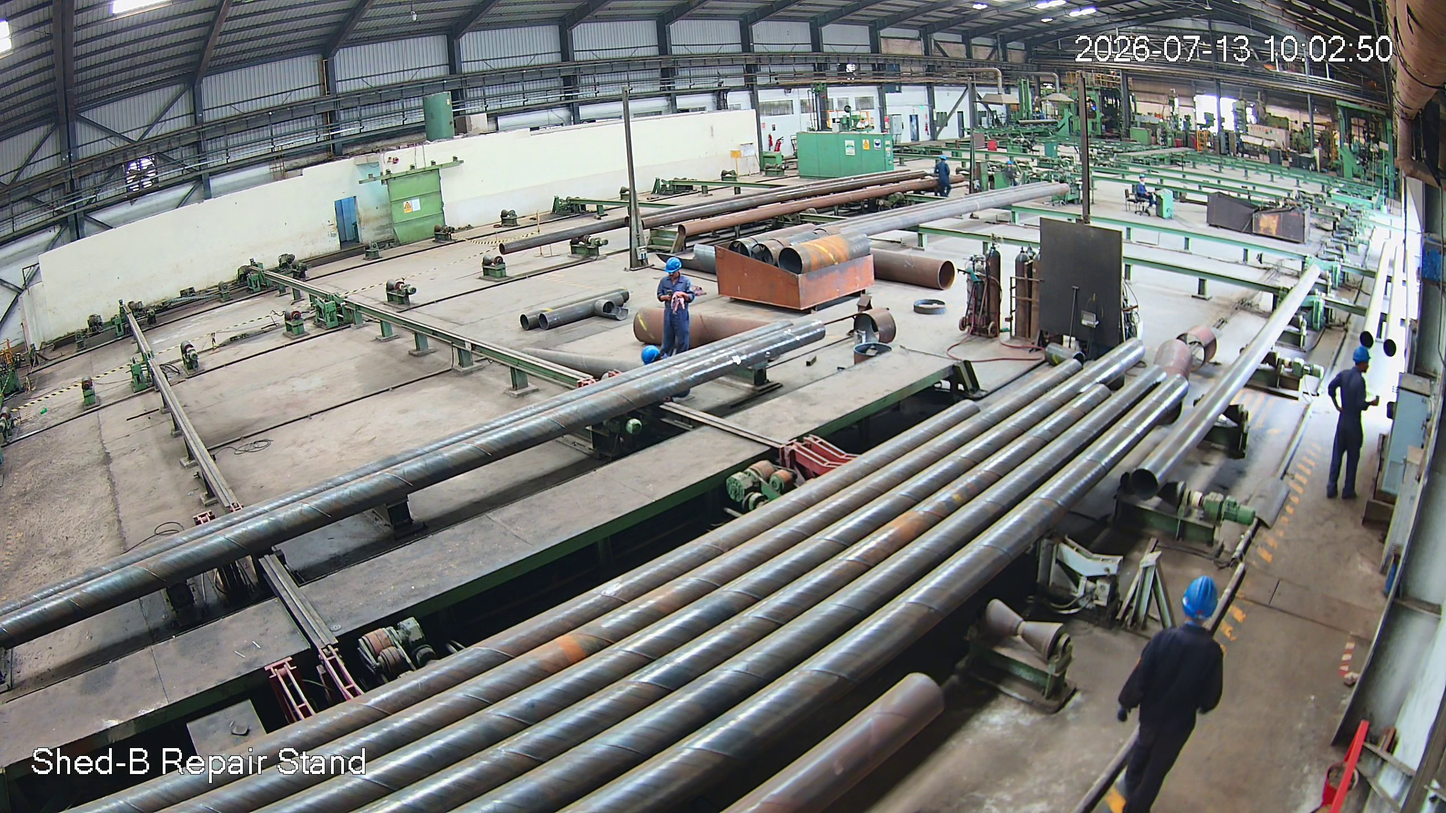Helmet: (1173, 572, 1238, 650), (1349, 345, 1373, 386), (663, 257, 684, 282)
Person: (1115, 576, 1231, 813), (1321, 349, 1381, 503), (652, 259, 700, 352)
